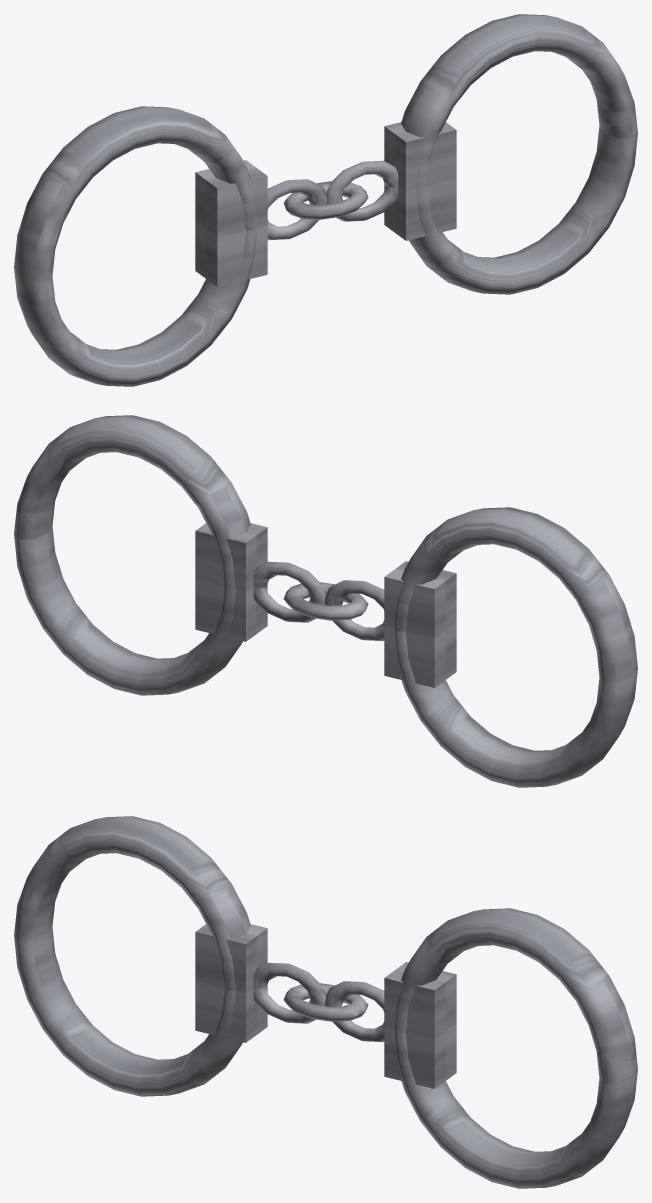
File: 手錠_handcuffs.glb
3 views of the same model, one above another, from view 1: azimuth 30°, elevation 25°; view 2: azimuth 150°, elevation 25°; view 3: azimuth 330°, elevation 25° (orthographic).
Parts seen in each view (by area): view 1: handcuffs; view 2: handcuffs; view 3: handcuffs.
Part boxes in pixels (x1,y1,x2,y2): handcuffs: [14, 14, 637, 386]; handcuffs: [14, 415, 637, 787]; handcuffs: [14, 816, 637, 1188].
Size of the model in its own units: 0.195 by 0.0819 by 0.018.
Materials: 1 (1 with a texture image).
